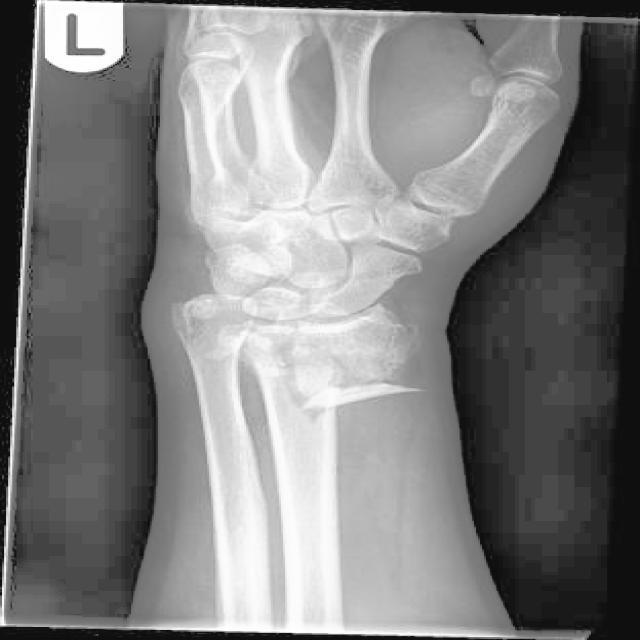Comminuted Fracture: (471, 28, 506, 108)
